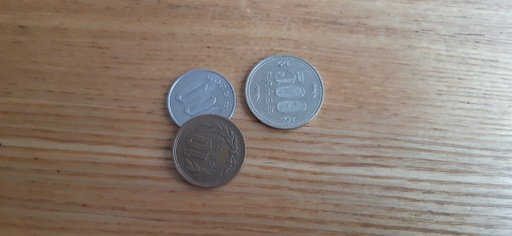100yen: (168, 70, 235, 133)
10yen: (173, 115, 244, 188)
500yen: (245, 55, 323, 130)
